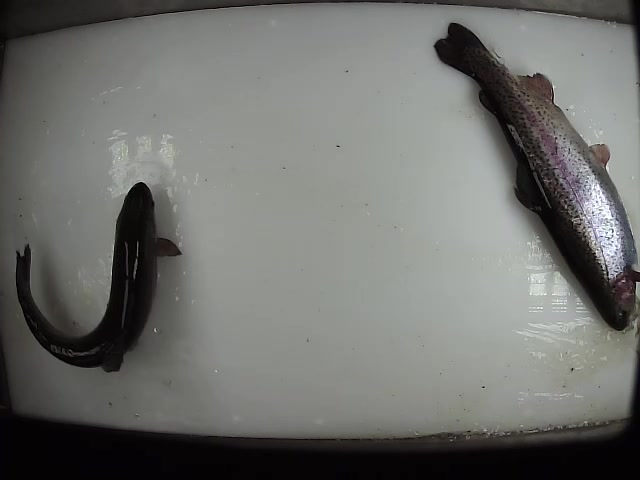fish: (431, 20, 638, 332), (14, 180, 185, 375)
